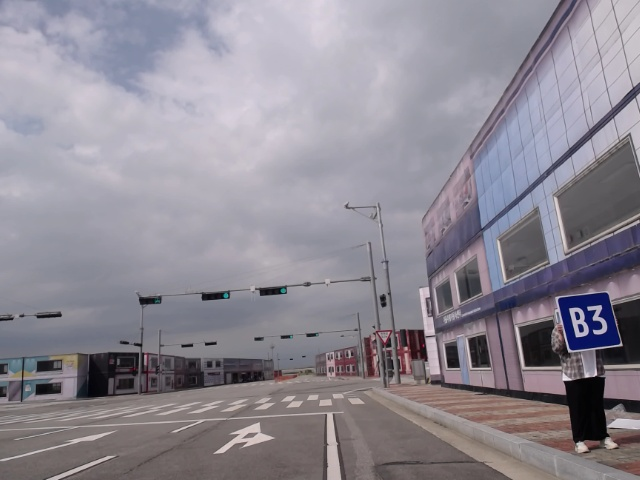delivery_b3: (554, 294, 626, 351)
straight_green_4: (255, 287, 293, 299), (199, 291, 231, 302), (305, 333, 321, 339), (280, 334, 294, 340)
